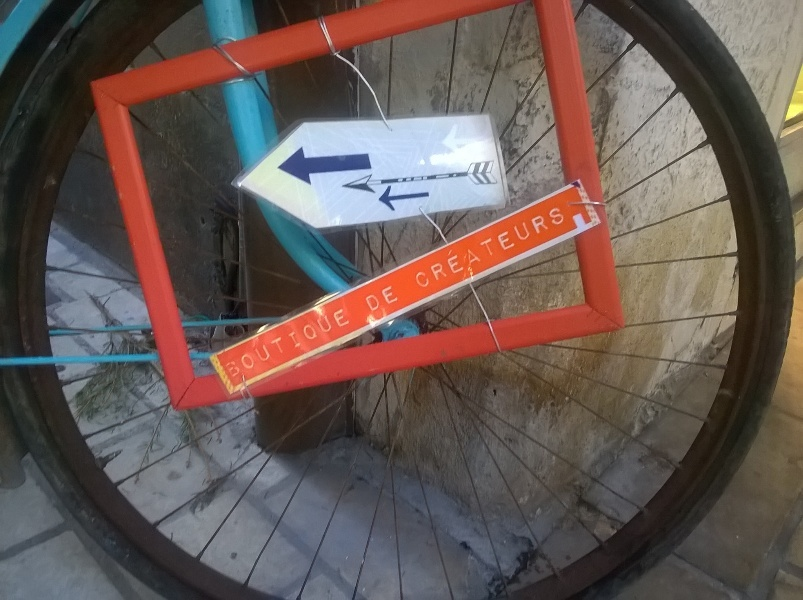text: (417, 201, 432, 291), (433, 201, 448, 291), (449, 201, 464, 291), (465, 201, 480, 291), (481, 201, 496, 291), (497, 201, 512, 291), (513, 201, 528, 291), (529, 201, 544, 291), (545, 201, 560, 291), (225, 307, 240, 379), (241, 307, 256, 379), (257, 307, 272, 379), (273, 307, 288, 379), (289, 307, 304, 379), (305, 307, 320, 379), (321, 307, 336, 379), (337, 307, 351, 379), (561, 201, 567, 291), (411, 201, 416, 291), (369, 286, 384, 313), (385, 286, 399, 313), (364, 286, 368, 313)
